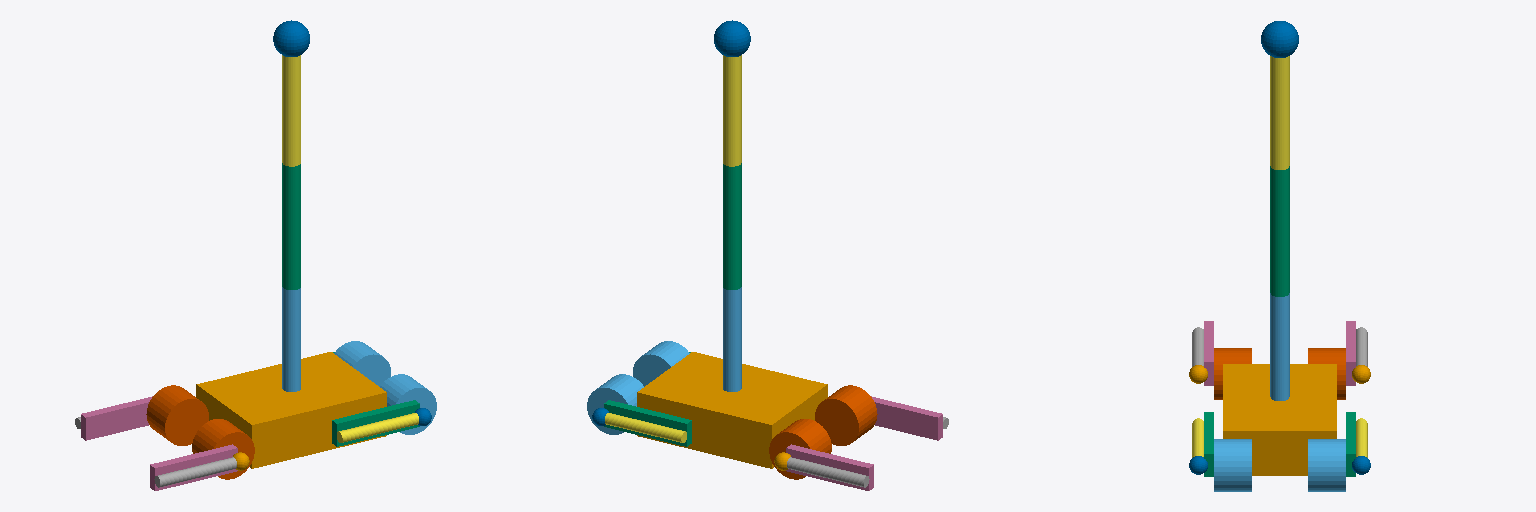
--- What the picture shows (computed from the rendered views, not written in the file) ---
The picture shows the robot from 3 angles, left to right: view 1: azimuth 30°, elevation 25°; view 2: azimuth 150°, elevation 25°; view 3: azimuth 270°, elevation 25°; orthographic projection.
Model spirit with 21 links and 20 joints (15 revolute, 5 fixed), rooted at body, posed every joint at zero.
Links seen in each view (by area): view 1: body, hip1, tail_link_1, tail_link_2, tail_link_0, upper1, hip3, hip2, upper2, upper3, hip0, tail_mass (+2 smaller); view 2: body, hip3, tail_link_1, tail_link_2, tail_link_0, upper3, hip1, hip0, upper0, upper1, hip2, tail_mass (+2 smaller); view 3: body, tail_link_1, tail_link_2, tail_link_0, hip0, hip2, tail_mass, hip1, hip3, upper0, upper2, upper1 (+1 smaller).
Boxes of the visible links, x1,y1,x2,y2 form: body: (196, 352, 386, 468); hip1: (146, 385, 208, 445); tail_link_1: (282, 163, 300, 289); tail_link_2: (282, 55, 300, 166); tail_link_0: (282, 287, 300, 391); upper1: (81, 396, 152, 440); hip3: (192, 419, 254, 479); hip2: (380, 374, 436, 434); upper2: (332, 400, 419, 446); upper3: (150, 444, 237, 490); hip0: (334, 341, 390, 386); tail_mass: (273, 20, 309, 56); body: (637, 352, 827, 468); hip3: (815, 385, 877, 445); tail_link_1: (723, 163, 741, 289); tail_link_2: (723, 55, 741, 166); tail_link_0: (723, 287, 741, 391); upper3: (871, 396, 942, 440); hip1: (769, 419, 831, 479); hip0: (587, 374, 643, 434); upper0: (604, 400, 691, 446); upper1: (786, 444, 873, 490); hip2: (633, 341, 689, 386); tail_mass: (714, 20, 750, 56); body: (1223, 364, 1336, 475); tail_link_1: (1270, 166, 1289, 296); tail_link_2: (1270, 56, 1289, 169); tail_link_0: (1270, 293, 1289, 400); hip0: (1308, 439, 1345, 491); hip2: (1214, 439, 1251, 491); tail_mass: (1261, 21, 1298, 57); hip1: (1308, 348, 1345, 399); hip3: (1214, 348, 1251, 399); upper0: (1346, 412, 1355, 476); upper2: (1204, 412, 1213, 476); upper1: (1346, 321, 1355, 385).
Bounding box of the posed robot: 0.7136 × 0.382 × 0.9766 m (x, y, z).
Geometry: primitives only (box / cylinder / sphere), no mesh files.

The robot description file, URDF, robot "spirit":
<?xml version="1.0" encoding="utf-8"?>
<!-- =================================================================================== -->
<!-- |    This document was autogenerated by xacro from xacro/spirit_gazebo_tail.urdf.xacro | -->
<!-- |    EDITING THIS FILE BY HAND IS NOT RECOMMENDED                                 | -->
<!-- =================================================================================== -->
<!-- 
MIT License (modified)

Copyright (c) 2020 Ghost Robotics
Authors:
Avik De <[email redacted]>
Tom Jacobs <[email redacted]>

Permission is hereby granted, free of charge, to any person obtaining a copy
of this **file** (the "Software"), to deal
in the Software without restriction, including without limitation the rights
to use, copy, modify, merge, publish, distribute, sublicense, and/or sell
copies of the Software, and to permit persons to whom the Software is
furnished to do so, subject to the following conditions:

The above copyright notice and this permission notice shall be included in all
copies or substantial portions of the Software.

THE SOFTWARE IS PROVIDED "AS IS", WITHOUT WARRANTY OF ANY KIND, EXPRESS OR
IMPLIED, INCLUDING BUT NOT LIMITED TO THE WARRANTIES OF MERCHANTABILITY,
FITNESS FOR A PARTICULAR PURPOSE AND NONINFRINGEMENT. IN NO EVENT SHALL THE
AUTHORS OR COPYRIGHT HOLDERS BE LIABLE FOR ANY CLAIM, DAMAGES OR OTHER
LIABILITY, WHETHER IN AN ACTION OF CONTRACT, TORT OR OTHERWISE, ARISING FROM,
OUT OF OR IN CONNECTION WITH THE SOFTWARE OR THE USE OR OTHER DEALINGS IN THE
SOFTWARE. 
-->
<robot name="spirit">
  <!-- Plugins -->
  <gazebo>
    <plugin filename="libgazebo_ros_control.so" name="gazebo_ros_control">
      <robotNamespace>/spirit</robotNamespace>
      <controlPeriod>0.002</controlPeriod>
    </plugin>
    <plugin filename="libground_truth_estimator.so" name="ground_truth_estimator">
      <updateRateHz>500.0</updateRateHz>
    </plugin>
  </gazebo>
  <!--link name="body_dummy">
		<inertial>
			<mass value="${bodyMass}" />
			<inertia ixx="0.05" ixy="0" ixz="0" iyy="0.1" iyz="0" izz="0.1" />
		</inertial>
	</link>
	<joint name="dummy_joint" type="fixed">
		<parent link="body_dummy" />
		<child link="body" />
	</joint-->
  <!-- Body -->
  <link name="body">
    <visual>
      <origin rpy="0 0 0" xyz="0 0 0"/>
      <geometry>
        <box size="0.335 0.24 0.104"/>
      </geometry>
      <material name="darkgray"/>
    </visual>
    <inertial>
      <mass value="7.388"/>
      <!--<mass value="${bodyMass}" /> -->
      <!-- Uniform box -->
      <!-- <inertia ixx="1/12*${bodyMass}*(${bodyWidth}*${bodyWidth} + ${bodyHeight}*${bodyHeight})"  ixy="0"  ixz="0" iyy="1/12*${bodyMass}*(${bodyLength}*${bodyLength} + ${bodyHeight}*${bodyHeight})" iyz="0" izz="1/12*${bodyMass}*(${bodyLength}*${bodyLength} + ${bodyWidth}*${bodyWidth})"/> -->
      <inertia ixx="0.0642434782" ixy="0" ixz="0" iyy="0.1284869565" iyz="0" izz="0.1284869565"/>
      <!--<inertia ixx="0.05" ixy="0" ixz="0" iyy="0.1" iyz="0" izz="0.1" />-->
    </inertial>
    <!-- Just copy geometry for collision -->
    <collision>
      <origin rpy="0 0 0" xyz="0 0 0"/>
      <geometry>
        <box size="0.335 0.24 0.104"/>
      </geometry>
    </collision>
  </link>
  <gazebo reference="body">
    <material>Gazebo/Black</material>
  </gazebo>
  <!-- Hip motor -->
  <link name="hip0">
    <visual>
      <origin rpy="1.5707963268 0 0" xyz="0 0.028 0"/>
      <geometry>
        <cylinder length="0.08" radius="0.055"/>
      </geometry>
    </visual>
    <collision>
      <origin rpy="1.5707963268 0 0" xyz="0 0.028 0"/>
      <geometry>
        <cylinder length="0.08" radius="0.055"/>
      </geometry>
    </collision>
    <inertial>
      <origin rpy="1.5707963268 0 0" xyz="0 0.028 0"/>
      <mass value="0.575"/>
      <inertia ixx="0.000741510416667" ixy="0" ixz="0" iyy="0.000741510416667" iyz="0" izz="0.0008696875"/>
      <!-- Okay for now... forgot when cylinder is formed what direction is x pointing in -->
      <!--inertia ixx="0.00066963541" ixy="0" ixz="0" iyy="0.00066963541" iyz="0" izz="0.0008696875" /-->
    </inertial>
  </link>
  <gazebo reference="hip0">
    <material>Gazebo/Grey</material>
  </gazebo>
  <!-- Abduction joint. Joint names are: 8 9 10 11 -->
  <joint name="8" type="revolute">
    <parent link="body"/>
    <child link="hip0"/>
    <axis xyz="1 0 0"/>
    <origin xyz="0.2263 0.07 0"/>
    <limit effort="21" lower="-0.707" upper="0.707" velocity="37.7"/>
    <dynamics damping="0.0" friction="0.0"/>
  </joint>
  <!-- Transmission elements required for Gazebo -->
  <transmission name="transmission_8">
    <type>transmission_interface/SimpleTransmission</type>
    <joint name="8">
      <hardwareInterface>hardware_interface/EffortJointInterface</hardwareInterface>
    </joint>
    <actuator name="motor_8">
      <hardwareInterface>EffortJointInterface</hardwareInterface>
      <mechanicalReduction>1</mechanicalReduction>
    </actuator>
  </transmission>
  <!-- Upper leg -->
  <link name="upper0">
    <visual>
      <origin rpy="0 0 0" xyz="-0.103 -0.022 0"/>
      <geometry>
        <box size="0.206 0.022 0.055"/>
      </geometry>
      <material name="silver"/>
    </visual>
    <collision>
      <origin rpy="0 0 0" xyz="-0.103 -0.022 0"/>
      <geometry>
        <box size="0.206 0.022 0.055"/>
      </geometry>
    </collision>
    <inertial>
      <origin rpy="0 0 0" xyz="-0.103 -0.022 0"/>
      <mass value="0.792"/>
      <!--<inertia ixx="${upperLegIxx}" ixy="0" ixz="0" iyy="${upperLegIyy}" iyz="0" izz="${upperLegIzz}" /> -->
      <inertia ixx="0.000231594" ixy="0" ixz="0" iyy="0.003000426" iyz="0" izz="0.00283272"/>
    </inertial>
  </link>
  <gazebo reference="upper0">
    <self_collide>0</self_collide>
    <material>Gazebo/DarkGrey</material>
  </gazebo>
  <!-- Hip joint. (Motor to upper leg). Joint names are: 0 2 4 6 -->
  <joint name="0" type="revolute">
    <parent link="hip0"/>
    <child link="upper0"/>
    <axis xyz="0 -1 0"/>
    <origin xyz="0 0.10098 0"/>
    <!--  rpy="0 -0.3 0" -->
    <limit effort="21" lower="-1.57" upper="3.14" velocity="37.7"/>
    <dynamics damping="0.0" friction="0.0"/>
  </joint>
  <!-- Transmission elements required for Gazebo -->
  <transmission name="transmission_0">
    <type>transmission_interface/SimpleTransmission</type>
    <joint name="0">
      <hardwareInterface>hardware_interface/EffortJointInterface</hardwareInterface>
    </joint>
    <actuator name="motor_0">
      <hardwareInterface>EffortJointInterface</hardwareInterface>
      <mechanicalReduction>1</mechanicalReduction>
    </actuator>
  </transmission>
  <!-- Lower leg -->
  <link name="lower0">
    <self_collide>0</self_collide>
    <visual>
      <origin rpy="0 1.5707963268 0" xyz="0.103 0 0"/>
      <geometry>
        <cylinder length="0.206" radius="0.013"/>
      </geometry>
      <material name="darkgray"/>
    </visual>
    <collision>
      <origin rpy="0 1.5707963268 0" xyz="0.103 0 0"/>
      <geometry>
        <cylinder length="0.206" radius="0.013"/>
      </geometry>
    </collision>
    <inertial>
      <origin rpy="0 0 0" xyz="0.103 0 0"/>
      <mass value="0.075"/>
      <!--inertia ixx="${lowerLegIxx}" ixy="0" ixz="0" iyy="${lowerLegIyy}" iyz="0" izz="${lowerLegIzz}" /-->
      <inertia ixx="2.193125e-05" ixy="0" ixz="0" iyy="0.00028413125" iyz="0" izz="0.00026825"/>
    </inertial>
  </link>
  <gazebo reference="lower0">
    <material>Gazebo/Grey</material>
  </gazebo>
  <!-- Knee joint. Joint names are: 1 3 5 7 -->
  <joint name="1" type="revolute">
    <parent link="upper0"/>
    <child link="lower0"/>
    <axis xyz="0 1 0"/>
    <origin xyz="-0.206 0 0"/>
    <!--rpy="0 0.5 0"-->
    <!--<limit effort="${jointEffortLimit}" velocity="${jointSpeedLimit}" lower="0" upper="${pi}" />-->
    <limit effort="32" lower="-6.28" upper="6.28" velocity="25.1"/>
    <dynamics damping="0.0" friction="0.0"/>
  </joint>
  <!-- Transmission elements required for Gazebo -->
  <transmission name="transmission_1">
    <type>transmission_interface/SimpleTransmission</type>
    <joint name="1">
      <hardwareInterface>hardware_interface/EffortJointInterface</hardwareInterface>
    </joint>
    <actuator name="motor_1">
      <hardwareInterface>EffortJointInterface</hardwareInterface>
      <mechanicalReduction>1</mechanicalReduction>
    </actuator>
  </transmission>
  <!-- Toe -->
  <link name="toe0">
    <contact>
      <friction_anchor/>
      <stiffness value="30000.0"/>
      <damping value="1000.0"/>
      <spinning_friction value="0.3"/>
      <lateral_friction value="50.0"/>
    </contact>
    <visual>
      <origin rpy="0 0 0" xyz="0 0 0"/>
      <geometry>
        <sphere radius="0.02"/>
      </geometry>
      <material name="darkgray"/>
    </visual>
    <collision>
      <origin rpy="0 0 0" xyz="0 0 0"/>
      <geometry>
        <sphere radius="0.02"/>
      </geometry>
    </collision>
    <inertial>
      <mass value="0.015"/>
      <inertia ixx="0.000025" ixy="0" ixz="0" iyy="0.000025" iyz="0" izz="0.000025"/>
      <!-- <inertia ixx="2/5*${toeMass}*${toeRadius}*${toeRadius}"  ixy="0"  ixz="0" iyy="2/5*${toeMass}*${toeRadius}*${toeRadius}" iyz="0" izz="2/5*${toeMass}*${toeRadius}*${toeRadius}" /> -->
    </inertial>
  </link>
  <gazebo reference="toe0">
    <self_collide>0</self_collide>
    <material>Gazebo/Black</material>
    <collision>
      <surface>
        <bounce>
          <restitution_coefficient>0</restitution_coefficient>
          <threshold>1e+06</threshold>
        </bounce>
        <friction>
          <torsional>
            <coefficient>0.3</coefficient>
          </torsional>
          <ode>
            <mu>100.0</mu>
            <mu2>50.0</mu2>
          </ode>
          <bullet>
            <rolling_friction>0.3</rolling_friction>
            <friction2>50.0</friction2>
          </bullet>
        </friction>
        <contact>
          <bullet>
            <kp>30000.0</kp>
            <kd>1000.0</kd>
          </bullet>
          <ode>
            <kp>30000.0</kp>
            <kd>1000.0</kd>
          </ode>
        </contact>
      </surface>
    </collision>
  </gazebo>
  <joint name="jtoe0" type="fixed">
    <parent link="lower0"/>
    <child link="toe0"/>
    <origin xyz="0.206 0 -0.0"/>
    <dynamics damping="0.0" friction="0.0"/>
  </joint>
  <!-- Hip motor -->
  <link name="hip1">
    <visual>
      <origin rpy="1.5707963268 0 0" xyz="0 0.028 0"/>
      <geometry>
        <cylinder length="0.08" radius="0.055"/>
      </geometry>
    </visual>
    <collision>
      <origin rpy="1.5707963268 0 0" xyz="0 0.028 0"/>
      <geometry>
        <cylinder length="0.08" radius="0.055"/>
      </geometry>
    </collision>
    <inertial>
      <origin rpy="1.5707963268 0 0" xyz="0 0.028 0"/>
      <mass value="0.575"/>
      <inertia ixx="0.000741510416667" ixy="0" ixz="0" iyy="0.000741510416667" iyz="0" izz="0.0008696875"/>
      <!-- Okay for now... forgot when cylinder is formed what direction is x pointing in -->
      <!--inertia ixx="0.00066963541" ixy="0" ixz="0" iyy="0.00066963541" iyz="0" izz="0.0008696875" /-->
    </inertial>
  </link>
  <gazebo reference="hip1">
    <material>Gazebo/Grey</material>
  </gazebo>
  <!-- Abduction joint. Joint names are: 8 9 10 11 -->
  <joint name="9" type="revolute">
    <parent link="body"/>
    <child link="hip1"/>
    <axis xyz="1 0 0"/>
    <origin xyz="-0.2263 0.07 0"/>
    <limit effort="21" lower="-0.707" upper="0.707" velocity="37.7"/>
    <dynamics damping="0.0" friction="0.0"/>
  </joint>
  <!-- Transmission elements required for Gazebo -->
  <transmission name="transmission_9">
    <type>transmission_interface/SimpleTransmission</type>
    <joint name="9">
      <hardwareInterface>hardware_interface/EffortJointInterface</hardwareInterface>
    </joint>
    <actuator name="motor_9">
      <hardwareInterface>EffortJointInterface</hardwareInterface>
      <mechanicalReduction>1</mechanicalReduction>
    </actuator>
  </transmission>
  <!-- Upper leg -->
  <link name="upper1">
    <visual>
      <origin rpy="0 0 0" xyz="-0.103 -0.022 0"/>
      <geometry>
        <box size="0.206 0.022 0.055"/>
      </geometry>
      <material name="silver"/>
    </visual>
    <collision>
      <origin rpy="0 0 0" xyz="-0.103 -0.022 0"/>
      <geometry>
        <box size="0.206 0.022 0.055"/>
      </geometry>
    </collision>
    <inertial>
      <origin rpy="0 0 0" xyz="-0.103 -0.022 0"/>
      <mass value="0.792"/>
      <!--<inertia ixx="${upperLegIxx}" ixy="0" ixz="0" iyy="${upperLegIyy}" iyz="0" izz="${upperLegIzz}" /> -->
      <inertia ixx="0.000231594" ixy="0" ixz="0" iyy="0.003000426" iyz="0" izz="0.00283272"/>
    </inertial>
  </link>
  <gazebo reference="upper1">
    <self_collide>0</self_collide>
    <material>Gazebo/DarkGrey</material>
  </gazebo>
  <!-- Hip joint. (Motor to upper leg). Joint names are: 0 2 4 6 -->
  <joint name="2" type="revolute">
    <parent link="hip1"/>
    <child link="upper1"/>
    <axis xyz="0 -1 0"/>
    <origin xyz="0 0.10098 0"/>
    <!--  rpy="0 -0.3 0" -->
    <limit effort="21" lower="-1.57" upper="3.14" velocity="37.7"/>
    <dynamics damping="0.0" friction="0.0"/>
  </joint>
  <!-- Transmission elements required for Gazebo -->
  <transmission name="transmission_2">
    <type>transmission_interface/SimpleTransmission</type>
    <joint name="2">
      <hardwareInterface>hardware_interface/EffortJointInterface</hardwareInterface>
    </joint>
    <actuator name="motor_2">
      <hardwareInterface>EffortJointInterface</hardwareInterface>
      <mechanicalReduction>1</mechanicalReduction>
    </actuator>
  </transmission>
  <!-- Lower leg -->
  <link name="lower1">
    <self_collide>0</self_collide>
    <visual>
      <origin rpy="0 1.5707963268 0" xyz="0.103 0 0"/>
      <geometry>
        <cylinder length="0.206" radius="0.013"/>
      </geometry>
      <material name="darkgray"/>
    </visual>
    <collision>
      <origin rpy="0 1.5707963268 0" xyz="0.103 0 0"/>
      <geometry>
        <cylinder length="0.206" radius="0.013"/>
      </geometry>
    </collision>
    <inertial>
      <origin rpy="0 0 0" xyz="0.103 0 0"/>
      <mass value="0.075"/>
      <!--inertia ixx="${lowerLegIxx}" ixy="0" ixz="0" iyy="${lowerLegIyy}" iyz="0" izz="${lowerLegIzz}" /-->
      <inertia ixx="2.193125e-05" ixy="0" ixz="0" iyy="0.00028413125" iyz="0" izz="0.00026825"/>
    </inertial>
  </link>
  <gazebo reference="lower1">
    <material>Gazebo/Grey</material>
  </gazebo>
  <!-- Knee joint. Joint names are: 1 3 5 7 -->
  <joint name="3" type="revolute">
    <parent link="upper1"/>
    <child link="lower1"/>
    <axis xyz="0 1 0"/>
    <origin xyz="-0.206 0 0"/>
    <!--rpy="0 0.5 0"-->
    <!--<limit effort="${jointEffortLimit}" velocity="${jointSpeedLimit}" lower="0" upper="${pi}" />-->
    <limit effort="32" lower="-6.28" upper="6.28" velocity="25.1"/>
    <dynamics damping="0.0" friction="0.0"/>
  </joint>
  <!-- Transmission elements required for Gazebo -->
  <transmission name="transmission_3">
    <type>transmission_interface/SimpleTransmission</type>
    <joint name="3">
      <hardwareInterface>hardware_interface/EffortJointInterface</hardwareInterface>
    </joint>
    <actuator name="motor_3">
      <hardwareInterface>EffortJointInterface</hardwareInterface>
      <mechanicalReduction>1</mechanicalReduction>
    </actuator>
  </transmission>
  <!-- Toe -->
  <link name="toe1">
    <contact>
      <friction_anchor/>
      <stiffness value="30000.0"/>
      <damping value="1000.0"/>
      <spinning_friction value="0.3"/>
      <lateral_friction value="50.0"/>
    </contact>
    <visual>
      <origin rpy="0 0 0" xyz="0 0 0"/>
      <geometry>
        <sphere radius="0.02"/>
      </geometry>
      <material name="darkgray"/>
    </visual>
    <collision>
      <origin rpy="0 0 0" xyz="0 0 0"/>
      <geometry>
        <sphere radius="0.02"/>
      </geometry>
    </collision>
    <inertial>
      <mass value="0.015"/>
      <inertia ixx="0.000025" ixy="0" ixz="0" iyy="0.000025" iyz="0" izz="0.000025"/>
      <!-- <inertia ixx="2/5*${toeMass}*${toeRadius}*${toeRadius}"  ixy="0"  ixz="0" iyy="2/5*${toeMass}*${toeRadius}*${toeRadius}" iyz="0" izz="2/5*${toeMass}*${toeRadius}*${toeRadius}" /> -->
    </inertial>
  </link>
  <gazebo reference="toe1">
    <self_collide>0</self_collide>
    <material>Gazebo/Black</material>
    <collision>
      <surface>
        <bounce>
          <restitution_coefficient>0</restitution_coefficient>
          <threshold>1e+06</threshold>
        </bounce>
        <friction>
          <torsional>
            <coefficient>0.3</coefficient>
          </torsional>
          <ode>
            <mu>100.0</mu>
            <mu2>50.0</mu2>
          </ode>
          <bullet>
            <rolling_friction>0.3</rolling_friction>
            <friction2>50.0</friction2>
          </bullet>
        </friction>
        <contact>
          <bullet>
            <kp>30000.0</kp>
            <kd>1000.0</kd>
          </bullet>
          <ode>
            <kp>30000.0</kp>
            <kd>1000.0</kd>
          </ode>
        </contact>
      </surface>
    </collision>
  </gazebo>
  <joint name="jtoe1" type="fixed">
    <parent link="lower1"/>
    <child link="toe1"/>
    <origin xyz="0.206 0 -0.0"/>
    <dynamics damping="0.0" friction="0.0"/>
  </joint>
  <!-- Hip motor -->
  <link name="hip2">
    <visual>
      <origin rpy="1.5707963268 0 0" xyz="0 -0.028 0"/>
      <geometry>
        <cylinder length="0.08" radius="0.055"/>
      </geometry>
    </visual>
    <collision>
      <origin rpy="1.5707963268 0 0" xyz="0 -0.028 0"/>
      <geometry>
        <cylinder length="0.08" radius="0.055"/>
      </geometry>
    </collision>
    <inertial>
      <origin rpy="1.5707963268 0 0" xyz="0 -0.028 0"/>
      <mass value="0.575"/>
      <inertia ixx="0.000741510416667" ixy="0" ixz="0" iyy="0.000741510416667" iyz="0" izz="0.0008696875"/>
      <!-- Okay for now... forgot when cylinder is formed what direction is x pointing in -->
      <!--inertia ixx="0.00066963541" ixy="0" ixz="0" iyy="0.00066963541" iyz="0" izz="0.0008696875" /-->
    </inertial>
  </link>
  <gazebo reference="hip2">
    <material>Gazebo/Grey</material>
  </gazebo>
  <!-- Abduction joint. Joint names are: 8 9 10 11 -->
  <joint name="10" type="revolute">
    <parent link="body"/>
    <child link="hip2"/>
    <axis xyz="1 0 0"/>
    <origin xyz="0.2263 -0.07 0"/>
    <limit effort="21" lower="-0.707" upper="0.707" velocity="37.7"/>
    <dynamics damping="0.0" friction="0.0"/>
  </joint>
  <!-- Transmission elements required for Gazebo -->
  <transmission name="transmission_10">
    <type>transmission_interface/SimpleTransmission</type>
    <joint name="10">
      <hardwareInterface>hardware_interface/EffortJointInterface</hardwareInterface>
    </joint>
    <actuator name="motor_10">
      <hardwareInterface>EffortJointInterface</hardwareInterface>
      <mechanicalReduction>1</mechanicalReduction>
    </actuator>
  </transmission>
  <!-- Upper leg -->
  <link name="upper2">
    <visual>
      <origin rpy="0 0 0" xyz="-0.103 0.022 0"/>
      <geometry>
        <box size="0.206 0.022 0.055"/>
      </geometry>
      <material name="silver"/>
    </visual>
    <collision>
      <origin rpy="0 0 0" xyz="-0.103 0.022 0"/>
      <geometry>
        <box size="0.206 0.022 0.055"/>
      </geometry>
    </collision>
    <inertial>
      <origin rpy="0 0 0" xyz="-0.103 0.022 0"/>
      <mass value="0.792"/>
      <!--<inertia ixx="${upperLegIxx}" ixy="0" ixz="0" iyy="${upperLegIyy}" iyz="0" izz="${upperLegIzz}" /> -->
      <inertia ixx="0.000231594" ixy="0" ixz="0" iyy="0.003000426" iyz="0" izz="0.00283272"/>
    </inertial>
  </link>
  <gazebo reference="upper2">
    <self_collide>0</self_collide>
    <material>Gazebo/DarkGrey</material>
  </gazebo>
  <!-- Hip joint. (Motor to upper leg). Joint names are: 0 2 4 6 -->
  <joint name="4" type="revolute">
    <parent link="hip2"/>
    <child link="upper2"/>
    <axis xyz="0 -1 0"/>
    <origin xyz="0 -0.10098 0"/>
    <!--  rpy="0 -0.3 0" -->
    <limit effort="21" lower="-1.57" upper="3.14" velocity="37.7"/>
    <dynamics damping="0.0" friction="0.0"/>
  </joint>
  <!-- Transmission elements required for Gazebo -->
  <transmission name="transmission_4">
    <type>transmission_interface/SimpleTransmission</type>
    <joint name="4">
      <hardwareInterface>hardware_interface/EffortJointInterface</hardwareInterface>
    </joint>
    <actuator name="motor_4">
      <hardwareInterface>EffortJointInterface</hardwareInterface>
      <mechanicalReduction>1</mechanicalReduction>
    </actuator>
  </transmission>
  <!-- Lower leg -->
  <link name="lower2">
    <self_collide>0</self_collide>
    <visual>
      <origin rpy="0 1.5707963268 0" xyz="0.103 0 0"/>
      <geometry>
        <cylinder length="0.206" radius="0.013"/>
      </geometry>
      <material name="darkgray"/>
    </visual>
    <collision>
      <origin rpy="0 1.5707963268 0" xyz="0.103 0 0"/>
      <geometry>
        <cylinder length="0.206" radius="0.013"/>
      </geometry>
    </collision>
    <inertial>
      <origin rpy="0 0 0" xyz="0.103 0 0"/>
      <mass value="0.075"/>
      <!--inertia ixx="${lowerLegIxx}" ixy="0" ixz="0" iyy="${lowerLegIyy}" iyz="0" izz="${lowerLegIzz}" /-->
      <inertia ixx="2.193125e-05" ixy="0" ixz="0" iyy="0.00028413125" iyz="0" izz="0.00026825"/>
    </inertial>
  </link>
  <gazebo reference="lower2">
    <material>Gazebo/Grey</material>
  </gazebo>
  <!-- Knee joint. Joint names are: 1 3 5 7 -->
  <joint name="5" type="revolute">
    <parent link="upper2"/>
    <child link="lower2"/>
    <axis xyz="0 1 0"/>
    <origin xyz="-0.206 0 0"/>
    <!--rpy="0 0.5 0"-->
    <!--<limit effort="${jointEffortLimit}" velocity="${jointSpeedLimit}" lower="0" upper="${pi}" />-->
    <limit effort="32" lower="-6.28" upper="6.28" velocity="25.1"/>
    <dynamics damping="0.0" friction="0.0"/>
  </joint>
  <!-- Transmission elements required for Gazebo -->
  <transmission name="transmission_5">
    <type>transmission_interface/SimpleTransmission</type>
    <joint name="5">
      <hardwareInterface>hardware_interface/EffortJointInterface</hardwareInterface>
    </joint>
    <actuator name="motor_5">
      <hardwareInterface>EffortJointInterface</hardwareInterface>
      <mechanicalReduction>1</mechanicalReduction>
    </actuator>
  </transmission>
  <!-- Toe -->
  <link name="toe2">
    <contact>
      <friction_anchor/>
      <stiffness value="30000.0"/>
      <damping value="1000.0"/>
      <spinning_friction value="0.3"/>
      <lateral_friction value="50.0"/>
    </contact>
    <visual>
      <origin rpy="0 0 0" xyz="0 0 0"/>
      <geometry>
        <sphere radius="0.02"/>
      </geometry>
      <material name="darkgray"/>
    </visual>
    <collision>
      <origin rpy="0 0 0" xyz="0 0 0"/>
      <geometry>
        <sphere radius="0.02"/>
      </geometry>
    </collision>
    <inertial>
      <mass value="0.015"/>
      <inertia ixx="0.000025" ixy="0" ixz="0" iyy="0.000025" iyz="0" izz="0.000025"/>
      <!-- <inertia ixx="2/5*${toeMass}*${toeRadius}*${toeRadius}"  ixy="0"  ixz="0" iyy="2/5*${toeMass}*${toeRadius}*${toeRadius}" iyz="0" izz="2/5*${toeMass}*${toeRadius}*${toeRadius}" /> -->
    </inertial>
  </link>
  <gazebo reference="toe2">
    <self_collide>0</self_collide>
    <material>Gazebo/Black</material>
    <collision>
      <surface>
        <bounce>
          <restitution_coefficient>0</restitution_coefficient>
          <threshold>1e+06</threshold>
        </bounce>
        <friction>
          <torsional>
            <coefficient>0.3</coefficient>
          </torsional>
          <ode>
            <mu>100.0</mu>
            <mu2>50.0</mu2>
          </ode>
          <bullet>
            <rolling_friction>0.3</rolling_friction>
            <friction2>50.0</friction2>
          </bullet>
        </friction>
        <contact>
          <bullet>
            <kp>30000.0</kp>
            <kd>1000.0</kd>
          </bullet>
          <ode>
            <kp>30000.0</kp>
            <kd>1000.0</kd>
          </ode>
        </contact>
      </surface>
    </collision>
  </gazebo>
  <joint name="jtoe2" type="fixed">
    <parent link="lower2"/>
    <child link="toe2"/>
    <origin xyz="0.206 0 -0.0"/>
    <dynamics damping="0.0" friction="0.0"/>
  </joint>
  <!-- Hip motor -->
  <link name="hip3">
    <visual>
      <origin rpy="1.5707963268 0 0" xyz="0 -0.028 0"/>
      <geometry>
        <cylinder length="0.08" radius="0.055"/>
      </geometry>
    </visual>
    <collision>
      <origin rpy="1.5707963268 0 0" xyz="0 -0.028 0"/>
      <geometry>
        <cylinder length="0.08" radius="0.055"/>
      </geometry>
    </collision>
    <inertial>
      <origin rpy="1.5707963268 0 0" xyz="0 -0.028 0"/>
      <mass value="0.575"/>
      <inertia ixx="0.000741510416667" ixy="0" ixz="0" iyy="0.000741510416667" iyz="0" izz="0.0008696875"/>
      <!-- Okay for now... forgot when cylinder is formed what direction is x pointing in -->
      <!--inertia ixx="0.00066963541" ixy="0" ixz="0" iyy="0.00066963541" iyz="0" izz="0.0008696875" /-->
    </inertial>
  </link>
  <gazebo reference="hip3">
    <material>Gazebo/Grey</material>
  </gazebo>
  <!-- Abduction joint. Joint names are: 8 9 10 11 -->
  <joint name="11" type="revolute">
    <parent link="body"/>
    <child link="hip3"/>
    <axis xyz="1 0 0"/>
    <origin xyz="-0.2263 -0.07 0"/>
    <limit effort="21" lower="-0.707" upper="0.707" velocity="37.7"/>
    <dynamics damping="0.0" friction="0.0"/>
  </joint>
  <!-- Transmission elements required for Gazebo -->
  <transmission name="transmission_11">
    <type>transmission_interface/SimpleTransmission</type>
    <joint name="11">
      <hardwareInterface>hardware_interface/EffortJointInterface</hardwareInterface>
    </joint>
    <actuator name="motor_11">
      <hardwareInterface>EffortJointInterface</hardwareInterface>
      <mechanicalReduction>1</mechanicalReduction>
    </actuator>
  </transmission>
  <!-- Upper leg -->
  <link name="upper3">
    <visual>
      <origin rpy="0 0 0" xyz="-0.103 0.022 0"/>
      <geometry>
        <box size="0.206 0.022 0.055"/>
      </geometry>
      <material name="silver"/>
    </visual>
    <collision>
      <origin rpy="0 0 0" xyz="-0.103 0.022 0"/>
      <geometry>
        <box size="0.206 0.022 0.055"/>
      </geometry>
    </collision>
    <inertial>
      <origin rpy="0 0 0" xyz="-0.103 0.022 0"/>
      <mass value="0.792"/>
      <!--<inertia ixx="${upperLegIxx}" ixy="0" ixz="0" iyy="${upperLegIyy}" iyz="0" izz="${upperLegIzz}" /> -->
      <inertia ixx="0.000231594" ixy="0" ixz="0" iyy="0.003000426" iyz="0" izz="0.00283272"/>
    </inertial>
  </link>
  <gazebo reference="upper3">
    <self_collide>0</self_collide>
    <material>Gazebo/DarkGrey</material>
  </gazebo>
  <!-- Hip joint. (Motor to upper leg). Joint names are: 0 2 4 6 -->
  <joint name="6" type="revolute">
    <parent link="hip3"/>
    <child link="upper3"/>
    <axis xyz="0 -1 0"/>
    <origin xyz="0 -0.10098 0"/>
    <!--  rpy="0 -0.3 0" -->
    <limit effort="21" lower="-1.57" upper="3.14" velocity="37.7"/>
    <dynamics damping="0.0" friction="0.0"/>
  </joint>
  <!-- Transmission elements required for Gazebo -->
  <transmission name="transmission_6">
    <type>transmission_interface/SimpleTransmission</type>
    <joint name="6">
      <hardwareInterface>hardware_interface/EffortJointInterface</hardwareInterface>
    </joint>
    <actuator name="motor_6">
      <hardwareInterface>EffortJointInterface</hardwareInterface>
      <mechanicalReduction>1</mechanicalReduction>
    </actuator>
  </transmission>
  <!-- Lower leg -->
  <link name="lower3">
    <self_collide>0</self_collide>
    <visual>
      <origin rpy="0 1.5707963268 0" xyz="0.103 0 0"/>
      <geometry>
        <cylinder length="0.206" radius="0.013"/>
      </geometry>
      <material name="darkgray"/>
    </visual>
    <collision>
      <origin rpy="0 1.5707963268 0" xyz="0.103 0 0"/>
      <geometry>
        <cylinder length="0.206" radius="0.013"/>
      </geometry>
    </collision>
    <inertial>
      <origin rpy="0 0 0" xyz="0.103 0 0"/>
      <mass value="0.075"/>
      <!--inertia ixx="${lowerLegIxx}" ixy="0" ixz="0" iyy="${lowerLegIyy}" iyz="0" izz="${lowerLegIzz}" /-->
      <inertia ixx="2.193125e-05" ixy="0" ixz="0" iyy="0.00028413125" iyz="0" izz="0.00026825"/>
    </inertial>
  </link>
  <gazebo reference="lower3">
    <material>Gazebo/Grey</material>
  </gazebo>
  <!-- Knee joint. Joint names are: 1 3 5 7 -->
  <joint name="7" type="revolute">
    <parent link="upper3"/>
    <child link="lower3"/>
    <axis xyz="0 1 0"/>
    <origin xyz="-0.206 0 0"/>
    <!--rpy="0 0.5 0"-->
    <!--<limit effort="${jointEffortLimit}" velocity="${jointSpeedLimit}" lower="0" upper="${pi}" />-->
    <limit effort="32" lower="-6.28" upper="6.28" velocity="25.1"/>
    <dynamics damping="0.0" friction="0.0"/>
  </joint>
  <!-- Transmission elements required for Gazebo -->
  <transmission name="transmission_7">
    <type>transmission_interface/SimpleTransmission</type>
    <joint name="7">
      <hardwareInterface>hardware_interface/EffortJointInterface</hardwareInterface>
    </joint>
    <actuator name="motor_7">
      <hardwareInterface>EffortJointInterface</hardwareInterface>
      <mechanicalReduction>1</mechanicalReduction>
    </actuator>
  </transmission>
  <!-- Toe -->
  <link name="toe3">
    <contact>
      <friction_anchor/>
      <stiffness value="30000.0"/>
      <damping value="1000.0"/>
      <spinning_friction value="0.3"/>
      <lateral_friction value="50.0"/>
    </contact>
    <visual>
      <origin rpy="0 0 0" xyz="0 0 0"/>
      <geometry>
        <sphere radius="0.02"/>
      </geometry>
      <material name="darkgray"/>
    </visual>
    <collision>
      <origin rpy="0 0 0" xyz="0 0 0"/>
      <geometry>
        <sphere radius="0.02"/>
      </geometry>
    </collision>
    <inertial>
      <mass value="0.015"/>
      <inertia ixx="0.000025" ixy="0" ixz="0" iyy="0.000025" iyz="0" izz="0.000025"/>
      <!-- <inertia ixx="2/5*${toeMass}*${toeRadius}*${toeRadius}"  ixy="0"  ixz="0" iyy="2/5*${toeMass}*${toeRadius}*${toeRadius}" iyz="0" izz="2/5*${toeMass}*${toeRadius}*${toeRadius}" /> -->
    </inertial>
  </link>
  <gazebo reference="toe3">
    <self_collide>0</self_collide>
    <material>Gazebo/Black</material>
    <collision>
      <surface>
        <bounce>
          <restitution_coefficient>0</restitution_coefficient>
          <threshold>1e+06</threshold>
        </bounce>
        <friction>
          <torsional>
            <coefficient>0.3</coefficient>
          </torsional>
          <ode>
            <mu>100.0</mu>
            <mu2>50.0</mu2>
          </ode>
          <bullet>
            <rolling_friction>0.3</rolling_friction>
            <friction2>50.0</friction2>
          </bullet>
        </friction>
        <contact>
          <bullet>
            <kp>30000.0</kp>
            <kd>1000.0</kd>
          </bullet>
          <ode>
            <kp>30000.0</kp>
            <kd>1000.0</kd>
          </ode>
        </contact>
      </surface>
    </collision>
  </gazebo>
  <joint name="jtoe3" type="fixed">
    <parent link="lower3"/>
    <child link="toe3"/>
    <origin xyz="0.206 0 -0.0"/>
    <dynamics damping="0.0" friction="0.0"/>
  </joint>
  <!-- Toe Plugins -->
  <gazebo reference="toe0">
    <sensor name="toe0_contact" type="contact">
      <plugin filename="libgazebo_ros_bumper.so" name="toe0_plugin">
        <alwaysOn>true</alwaysOn>
        <updateRate>500</updateRate>
        <bumperTopicName>gazebo/toe0_contact_state</bumperTopicName>
        <frameName>world</frameName>
      </plugin>
      <contact>
        <collision>toe0_collision</collision>
      </contact>
      <update_rate>500</update_rate>
    </sensor>
  </gazebo>
  <gazebo reference="toe1">
    <sensor name="toe1_contact" type="contact">
      <plugin filename="libgazebo_ros_bumper.so" name="toe1_plugin">
        <alwaysOn>true</alwaysOn>
        <updateRate>500</updateRate>
        <bumperTopicName>gazebo/toe1_contact_state</bumperTopicName>
        <frameName>world</frameName>
      </plugin>
      <contact>
        <collision>toe1_collision</collision>
      </contact>
      <update_rate>500</update_rate>
    </sensor>
  </gazebo>
  <gazebo reference="toe2">
    <sensor name="toe2_contact" type="contact">
      <plugin filename="libgazebo_ros_bumper.so" name="toe2_plugin">
        <alwaysOn>true</alwaysOn>
        <updateRate>500</updateRate>
        <bumperTopicName>gazebo/toe2_contact_state</bumperTopicName>
        <frameName>world</frameName>
      </plugin>
      <contact>
        <collision>toe2_collision</collision>
      </contact>
      <update_rate>500</update_rate>
    </sensor>
  </gazebo>
  <gazebo reference="toe3">
    <sensor name="toe3_contact" type="contact">
      <plugin filename="libgazebo_ros_bumper.so" name="toe3_plugin">
        <alwaysOn>true</alwaysOn>
        <updateRate>500</updateRate>
        <bumperTopicName>gazebo/toe3_contact_state</bumperTopicName>
        <frameName>world</frameName>
      </plugin>
      <contact>
        <collision>toe3_collision</collision>
      </contact>
      <update_rate>500</update_rate>
    </sensor>
  </gazebo>
  <!-- Preserve fixed joints -->
  <gazebo reference="jtoe0">
    <preserveFixedJoint>true</preserveFixedJoint>
  </gazebo>
  <gazebo reference="jtoe1">
    <preserveFixedJoint>true</preserveFixedJoint>
  </gazebo>
  <gazebo reference="jtoe2">
    <preserveFixedJoint>true</preserveFixedJoint>
  </gazebo>
  <gazebo reference="jtoe3">
    <preserveFixedJoint>true</preserveFixedJoint>
  </gazebo>
  <!-- TAIL -->
  <!-- Remark: Need to incorporate reasonable mass & inertia calc wrt tailLength -->
  <!-- Tail Links -->
  <link name="tail_link_0">
    <visual>
      <origin rpy="0 0 0" xyz="0 0 0.146933333333"/>
      <geometry>
        <cylinder length="0.293866666667" radius="0.02"/>
      </geometry>
      <material name="gray"/>
    </visual>
    <inertial>
      <origin rpy="0 0 0" xyz="0 0 0.146933333333"/>
      <mass value="0.001"/>
      <!--<inertia ixx="${tailLinkMass/12*(3*0.02*0.02 + tailLength*tailLength)}" ixy="0" ixz="0" iyy="${tailLinkMass/12*(3*0.02*0.02 + tailLength*tailLength)}" iyz="0.0" izz="${tailLinkMass*(0.02*0.02)/2}" /> -->
      <!-- Assume inertia of a sphere & scale base of 2/5MR^2 -->
      <inertia ixx="1.11111111111e-05" ixy="0" ixz="0" iyy="1.11111111111e-05" iyz="0" izz="1.11111111111e-05"/>
    </inertial>
    <!-- No need to add collision boxes for this -->
  </link>
  <gazebo reference="tail_link_0">
    <material>Gazebo/Gray</material>
  </gazebo>
  <link name="tail_link_1">
    <visual>
      <origin rpy="0 0 0" xyz="0 0 0.146933333333"/>
      <geometry>
        <cylinder length="0.293866666667" radius="0.02"/>
      </geometry>
      <material name="gray"/>
    </visual>
    <inertial>
      <origin rpy="0 0 0" xyz="0 0 0.146933333333"/>
      <mass value="0.001"/>
      <inertia ixx="1.11111111111e-05" ixy="0" ixz="0" iyy="1.11111111111e-05" iyz="0" izz="1.11111111111e-05"/>
    </inertial>
  </link>
  <gazebo reference="tail_link_1">
    <material>Gazebo/Gray</material>
  </gazebo>
  <link name="tail_link_2">
    <visual>
      <origin rpy="0 0 0" xyz="0 0 0.146933333333"/>
      <geometry>
        <cylinder length="0.293866666667" radius="0.02"/>
      </geometry>
      <material name="gray"/>
    </visual>
    <inertial>
      <origin rpy="0 0 0" xyz="0 0 0.146933333333"/>
      <mass value="0.001"/>
      <inertia ixx="1.11111111111e-05" ixy="0" ixz="0" iyy="1.11111111111e-05" iyz="0" izz="1.11111111111e-05"/>
    </inertial>
  </link>
  <gazebo reference="tail_link_2">
    <material>Gazebo/Gray</material>
  </gazebo>
  <!--
	<link name="tail_link_3">
		<visual>
			<origin rpy="0 0 0" xyz="0 0 ${tailLength/2}" />
			<geometry>
				<cylinder radius="0.02" length="${tailLength}" />
			</geometry>
			<material name="gray" />
		</visual>
		<inertial>
			<origin xyz="0 0 ${tailLength/2}" rpy="0 0 0" />
			<mass value="${tailLinkMass}" />
			<inertia ixx="${1e-04/(tailNum*tailNum)}" ixy="0" ixz="0" iyy="${1e-04/(tailNum*tailNum)}" iyz="0" izz="${1e-04/(tailNum*tailNum)}" />
		</inertial>
	</link>

	<gazebo reference="tail_link_3">
		<material>Gazebo/Gray</material>
	</gazebo>

	<link name="tail_link_4">
		<visual>
			<origin rpy="0 0 0" xyz="0 0 ${tailLength/2}" />
			<geometry>
				<cylinder radius="0.02" length="${tailLength}" />
			</geometry>
			<material name="gray" />
		</visual>
		<inertial>
			<origin xyz="0 0 ${tailLength/2}" rpy="0 0 0" />
			<mass value="${tailLinkMass}" />
			<inertia ixx="${1e-04/(tailNum*tailNum)}" ixy="0" ixz="0" iyy="${1e-04/(tailNum*tailNum)}" iyz="0" izz="${1e-04/(tailNum*tailNum)}" />
		</inertial>
	</link>

	<gazebo reference="tail_link_4">
		<material>Gazebo/Gray</material>
	</gazebo>

	<link name="tail_link_5">
		<visual>
			<origin rpy="0 0 0" xyz="0 0 ${tailLength/2}" />
			<geometry>
				<cylinder radius="0.02" length="${tailLength}" />
			</geometry>
			<material name="gray" />
		</visual>
		<inertial>
			<origin xyz="0 0 ${tailLength/2}" rpy="0 0 0" />
			<mass value="${tailLinkMass}" />
			<inertia ixx="${1e-04/(tailNum*tailNum)}" ixy="0" ixz="0" iyy="${1e-04/(tailNum*tailNum)}" iyz="0" izz="${1e-04/(tailNum*tailNum)}" />
		</inertial>
	</link>

	<gazebo reference="tail_link_5">
		<material>Gazebo/Gray</material>
	</gazebo>

	<link name="tail_link_6">
		<visual>
			<origin rpy="0 0 0" xyz="0 0 ${tailLength/2}" />
			<geometry>
				<cylinder radius="0.02" length="${tailLength}" />
			</geometry>
			<material name="gray" />
		</visual>
		<inertial>
			<origin xyz="0 0 ${tailLength/2}" rpy="0 0 0" />
			<mass value="${tailLinkMass}" />
			<inertia ixx="${1e-04/(tailNum*tailNum)}" ixy="0" ixz="0" iyy="${1e-04/(tailNum*tailNum)}" iyz="0" izz="${1e-04/(tailNum*tailNum)}" />
		</inertial>
	</link>

	<gazebo reference="tail_link_6">
		<material>Gazebo/Gray</material>
	</gazebo>

	<link name="tail_link_7">
		<visual>
			<origin rpy="0 0 0" xyz="0 0 ${tailLength/2}" />
			<geometry>
				<cylinder radius="0.02" length="${tailLength}" />
			</geometry>
			<material name="gray" />
		</visual>
		<inertial>
			<origin xyz="0 0 ${tailLength/2}" rpy="0 0 0" />
			<mass value="${tailLinkMass}" />
			<inertia ixx="${1e-04/(tailNum*tailNum)}" ixy="0" ixz="0" iyy="${1e-04/(tailNum*tailNum)}" iyz="0" izz="${1e-04/(tailNum*tailNum)}" />
		</inertial>
	</link>

	<gazebo reference="tail_link_7">
		<material>Gazebo/Gray</material>
	</gazebo>

	<link name="tail_link_8">
		<visual>
			<origin rpy="0 0 0" xyz="0 0 ${tailLength/2}" />
			<geometry>
				<cylinder radius="0.02" length="${tailLength}" />
			</geometry>
			<material name="gray" />
		</visual>
		<inertial>
			<origin xyz="0 0 ${tailLength/2}" rpy="0 0 0" />
			<mass value="${tailLinkMass}" />
			<inertia ixx="${1e-04/(tailNum*tailNum)}" ixy="0" ixz="0" iyy="${1e-04/(tailNum*tailNum)}" iyz="0" izz="${1e-04/(tailNum*tailNum)}" />
		</inertial>
	</link>

	<gazebo reference="tail_link_8">
		<material>Gazebo/Gray</material>
	</gazebo>

	<link name="tail_link_9">
		<visual>
			<origin rpy="0 0 0" xyz="0 0 ${tailLength/2}" />
			<geometry>
				<cylinder radius="0.02" length="${tailLength}" />
			</geometry>
			<material name="gray" />
		</visual>
		<inertial>
			<origin xyz="0 0 ${tailLength/2}" rpy="0 0 0" />
			<mass value="${tailLinkMass}" />
			<inertia ixx="${1e-04/(tailNum*tailNum)}" ixy="0" ixz="0" iyy="${1e-04/(tailNum*tailNum)}" iyz="0" izz="${1e-04/(tailNum*tailNum)}" />
		</inertial>
	</link>

	<gazebo reference="tail_link_9">
		<material>Gazebo/Gray</material>
	</gazebo> -->
  <link name="tail_mass">
    <visual>
      <origin rpy="0 0 0" xyz="0 0 0"/>
      <geometry>
        <sphere radius="0.04"/>
      </geometry>
      <material name="gray"/>
    </visual>
    <inertial>
      <mass value="0.2764"/>
      <inertia ixx="2.764e-04" ixy="0" ixz="0" iyy="2.764e-04" iyz="0" izz="2.764e-04"/>
    </inertial>
    <collision>
      <origin rpy="0 0 0" xyz=" 0 0 0"/>
      <geometry>
        <sphere radius="0.04"/>
      </geometry>
    </collision>
  </link>
  <gazebo reference="tail_mass">
    <material>Gazebo/Gray</material>
  </gazebo>
  <!-- Tail Joints -->
  <joint name="body_tail_joint_0" type="revolute">
    <parent link="body"/>
    <child link="tail_link_0"/>
    <axis xyz="0 1 0"/>
    <origin rpy="0 0 0" xyz="0 0 0"/>
    <limit effort="50" lower="-1.57" upper="1.57" velocity="40"/>
    <dynamics damping="0.0" friction="0.0"/>
  </joint>
  <joint name="body_tail_joint_1" type="revolute">
    <parent link="tail_link_0"/>
    <child link="tail_link_1"/>
    <axis xyz="0 1 0"/>
    <origin rpy="0 0 0" xyz="0 0 0.293866666667"/>
    <limit effort="50" lower="-1.57" upper="1.57" velocity="40"/>
    <dynamics damping="0.0" friction="0.0"/>
  </joint>
  <joint name="body_tail_joint_2" type="revolute">
    <parent link="tail_link_1"/>
    <child link="tail_link_2"/>
    <axis xyz="0 1 0"/>
    <origin rpy="0 0 0" xyz="0 0 0.293866666667"/>
    <limit effort="50" lower="-1.57" upper="1.57" velocity="40"/>
    <dynamics damping="0.0" friction="0.0"/>
  </joint>
  <!--
	<joint name="body_tail_joint_3" type="revolute">
		<parent link="tail_link_2" />
		<child link="tail_link_3" />
		<axis xyz="0 1 0" />
		<origin xyz="0 0 ${tailLength}" rpy="0 0 0" />
		<limit effort="50" lower="-1.57" upper="1.57" velocity="40" />
		<dynamics damping="0.0" friction="0.0" />
	</joint>

	<joint name="body_tail_joint_4" type="revolute">
		<parent link="tail_link_3" />
		<child link="tail_link_4" />
		<axis xyz="0 1 0" />
		<origin xyz="0 0 ${tailLength}" rpy="0 0 0" />
		<limit effort="50" lower="-1.57" upper="1.57" velocity="40" />
		<dynamics damping="0.0" friction="0.0" />
	</joint>

	<joint name="body_tail_joint_5" type="revolute">
		<parent link="tail_link_4" />
		<child link="tail_link_5" />
		<axis xyz="0 1 0" />
		<origin xyz="0 0 ${tailLength}" rpy="0 0 0" />
		<limit effort="50" lower="-1.57" upper="1.57" velocity="40" />
		<dynamics damping="0.0" friction="0.0" />
	</joint>

	<joint name="body_tail_joint_6" type="revolute">
		<parent link="tail_link_5" />
		<child link="tail_link_6" />
		<axis xyz="0 1 0" />
		<origin xyz="0 0 ${tailLength}" rpy="0 0 0" />
		<limit effort="50" lower="-1.57" upper="1.57" velocity="40" />
		<dynamics damping="0.0" friction="0.0" />
	</joint>

	<joint name="body_tail_joint_7" type="revolute">
		<parent link="tail_link_6" />
		<child link="tail_link_7" />
		<axis xyz="0 1 0" />
		<origin xyz="0 0 ${tailLength}" rpy="0 0 0" />
		<limit effort="50" lower="-1.57" upper="1.57" velocity="40" />
		<dynamics damping="0.0" friction="0.0" />
	</joint>

	<joint name="body_tail_joint_8" type="revolute">
		<parent link="tail_link_7" />
		<child link="tail_link_8" />
		<axis xyz="0 1 0" />
		<origin xyz="0 0 ${tailLength}" rpy="0 0 0" />
		<limit effort="50" lower="-1.57" upper="1.57" velocity="40" />
		<dynamics damping="0.0" friction="0.0" />
	</joint>

	<joint name="body_tail_joint_9" type="revolute">
		<parent link="tail_link_8" />
		<child link="tail_link_9" />
		<axis xyz="0 1 0" />
		<origin xyz="0 0 ${tailLength}" rpy="0 0 0" />
		<limit effort="50" lower="-1.57" upper="1.57" velocity="40" />
		<dynamics damping="0.0" friction="0.0" />
	</joint> -->
  <joint name="tail_link_mass_joint" type="fixed">
    <parent link="tail_link_2"/>
    <child link="tail_mass"/>
    <origin xyz="0 0 0.293866666667"/>
    <dynamic damping="0.0" friction="0.0"/>
  </joint>
  <!-- Transmission Elements Required for Gazebo Control -->
  <transmission name="transmission_body_tail_joint_0">
    <type>transmission_interface/SimpleTransmission</type>
    <joint name="body_tail_joint_0">
      <hardwareInterface>hardware_interface/EffortJointInterface</hardwareInterface>
    </joint>
    <actuator name="motor_body_tail_joint_0">
      <hardwareInterface>hardware_interface/EffortJointInterface</hardwareInterface>
      <mechanicalReduction>1</mechanicalReduction>
    </actuator>
  </transmission>
  <transmission name="transmission_body_tail_joint_1">
    <type>transmission_interface/SimpleTransmission</type>
    <joint name="body_tail_joint_1">
      <hardwareInterface>hardware_interface/EffortJointInterface</hardwareInterface>
    </joint>
    <actuator name="motor_body_tail_joint_1">
      <hardwareInterface>hardware_interface/EffortJointInterface</hardwareInterface>
      <mechanicalReduction>1</mechanicalReduction>
    </actuator>
  </transmission>
  <transmission name="transmission_body_tail_joint_2">
    <type>transmission_interface/SimpleTransmission</type>
    <joint name="body_tail_joint_2">
      <hardwareInterface>hardware_interface/EffortJointInterface</hardwareInterface>
    </joint>
    <actuator name="motor_body_tail_joint_2">
      <hardwareInterface>hardware_interface/EffortJointInterface</hardwareInterface>
      <mechanicalReduction>1</mechanicalReduction>
    </actuator>
  </transmission>
  <!--
	<transmission name="transmission_body_tail_joint_3">
		<type>transmission_interface/SimpleTransmission</type>
		<joint name="body_tail_joint_3">
			<hardwareInterface>hardware_interface/EffortJointInterface</hardwareInterface>
		</joint>
		<actuator name="motor_body_tail_joint_3">
			<hardwareInterface>hardware_interface/EffortJointInterface</hardwareInterface>
			<mechanicalReduction>1</mechanicalReduction>
		</actuator>
	</transmission>

	<transmission name="transmission_body_tail_joint_4">
		<type>transmission_interface/SimpleTransmission</type>
		<joint name="body_tail_joint_4">
			<hardwareInterface>hardware_interface/EffortJointInterface</hardwareInterface>
		</joint>
		<actuator name="motor_body_tail_joint_4">
			<hardwareInterface>hardware_interface/EffortJointInterface</hardwareInterface>
			<mechanicalReduction>1</mechanicalReduction>
		</actuator>
	</transmission>

	<transmission name="transmission_body_tail_joint_5">
		<type>transmission_interface/SimpleTransmission</type>
		<joint name="body_tail_joint_5">
			<hardwareInterface>hardware_interface/EffortJointInterface</hardwareInterface>
		</joint>
		<actuator name="motor_body_tail_joint_5">
			<hardwareInterface>hardware_interface/EffortJointInterface</hardwareInterface>
			<mechanicalReduction>1</mechanicalReduction>
		</actuator>
	</transmission>

	<transmission name="transmission_body_tail_joint_6">
		<type>transmission_interface/SimpleTransmission</type>
		<joint name="body_tail_joint_6">
			<hardwareInterface>hardware_interface/EffortJointInterface</hardwareInterface>
		</joint>
		<actuator name="motor_body_tail_joint_6">
			<hardwareInterface>hardware_interface/EffortJointInterface</hardwareInterface>
			<mechanicalReduction>1</mechanicalReduction>
		</actuator>
	</transmission>

	<transmission name="transmission_body_tail_joint_7">
		<type>transmission_interface/SimpleTransmission</type>
		<joint name="body_tail_joint_7">
			<hardwareInterface>hardware_interface/EffortJointInterface</hardwareInterface>
		</joint>
		<actuator name="motor_body_tail_joint_7">
			<hardwareInterface>hardware_interface/EffortJointInterface</hardwareInterface>
			<mechanicalReduction>1</mechanicalReduction>
		</actuator>
	</transmission>

	<transmission name="transmission_body_tail_joint_8">
		<type>transmission_interface/SimpleTransmission</type>
		<joint name="body_tail_joint_8">
			<hardwareInterface>hardware_interface/EffortJointInterface</hardwareInterface>
		</joint>
		<actuator name="motor_body_tail_joint_8">
			<hardwareInterface>hardware_interface/EffortJointInterface</hardwareInterface>
			<mechanicalReduction>1</mechanicalReduction>
		</actuator>
	</transmission>

	<transmission name="transmission_body_tail_joint_9">
		<type>transmission_interface/SimpleTransmission</type>
		<joint name="body_tail_joint_9">
			<hardwareInterface>hardware_interface/EffortJointInterface</hardwareInterface>
		</joint>
		<actuator name="motor_body_tail_joint_9">
			<hardwareInterface>hardware_interface/EffortJointInterface</hardwareInterface>
			<mechanicalReduction>1</mechanicalReduction>
		</actuator>
	</transmission> -->
</robot>
